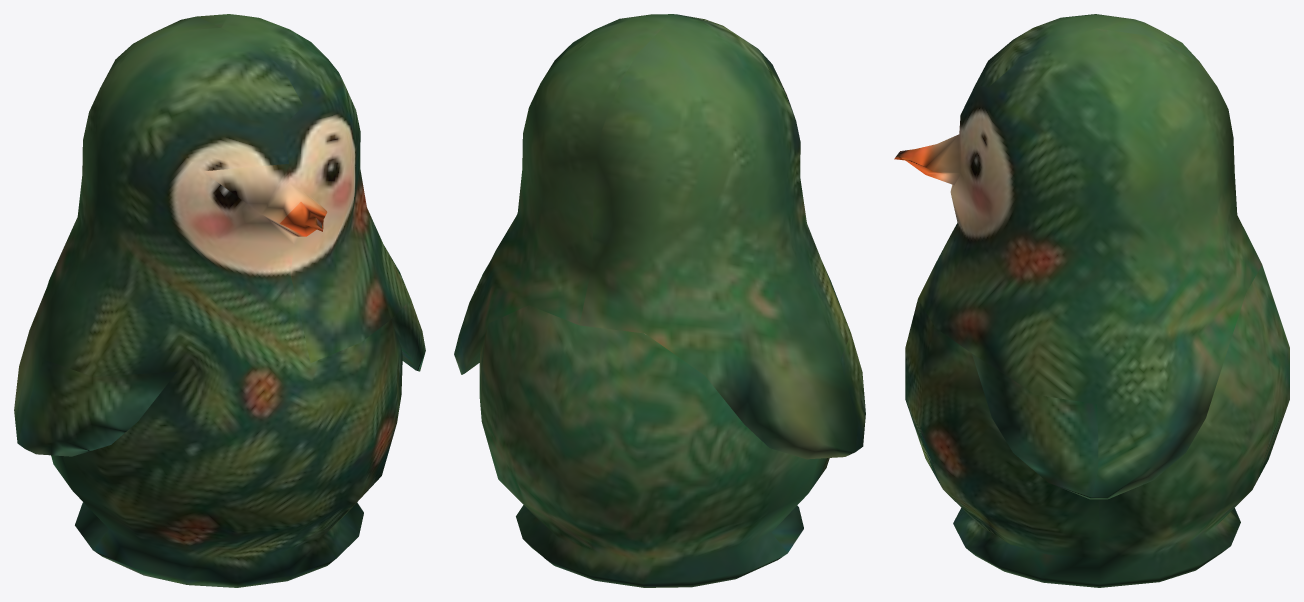
Rendered from penguin-06-44-winter-fir-penguin-doll.gltf.
3 views of the same model, side by side, from view 1: azimuth 30°, elevation 25°; view 2: azimuth 150°, elevation 25°; view 3: azimuth 270°, elevation 25° (orthographic).
Visible parts, largest first — view 1: penguin-06-44-winter-fir-penguin-doll; view 2: penguin-06-44-winter-fir-penguin-doll; view 3: penguin-06-44-winter-fir-penguin-doll.
Part boxes in pixels (<box>): penguin-06-44-winter-fir-penguin-doll: <box>14,14,425,587</box>; penguin-06-44-winter-fir-penguin-doll: <box>454,14,865,587</box>; penguin-06-44-winter-fir-penguin-doll: <box>894,14,1289,587</box>.
Size of the model in its own units: 0.2 by 0.249 by 0.1722.
Materials: 1 (1 with a texture image).
